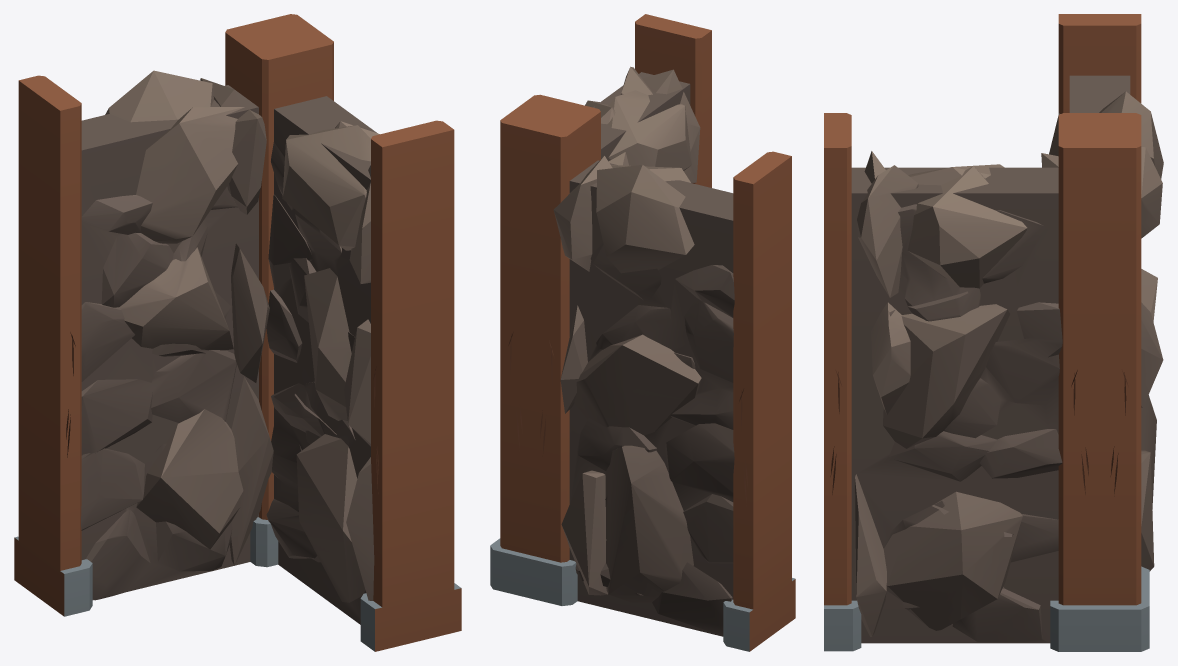
Rendered from wall_cave_corner_A.glb.
The picture shows the model from 3 angles, left to right: view 1: azimuth 30°, elevation 25°; view 2: azimuth 150°, elevation 25°; view 3: azimuth 270°, elevation 25°; orthographic projection. The views are drawn at different scales.
Parts seen in each view (by area): view 1: Item; view 2: Item; view 3: Item.
Boxes of the visible parts, <box> form: Item: <box>14,14,461,651</box>; Item: <box>490,14,795,651</box>; Item: <box>824,14,1163,651</box>.
Bounding box in the file's own units: 2.46 × 4 × 2.46.
Materials: 1 (1 with a texture image).
